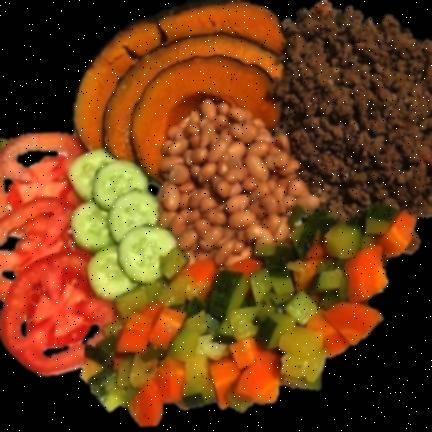beans: (157, 101, 318, 265)
carrot: (307, 210, 415, 357), (211, 337, 281, 407)
cucumber: (69, 149, 176, 300)
green_vegetables: (210, 268, 295, 348), (309, 269, 343, 308)
meat: (274, 0, 432, 219)
tomato: (0, 133, 114, 375)
